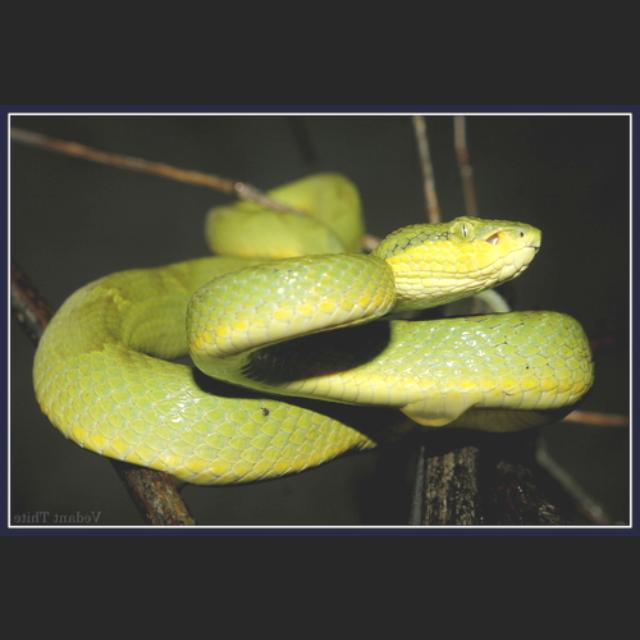snake: (31, 173, 594, 481)
